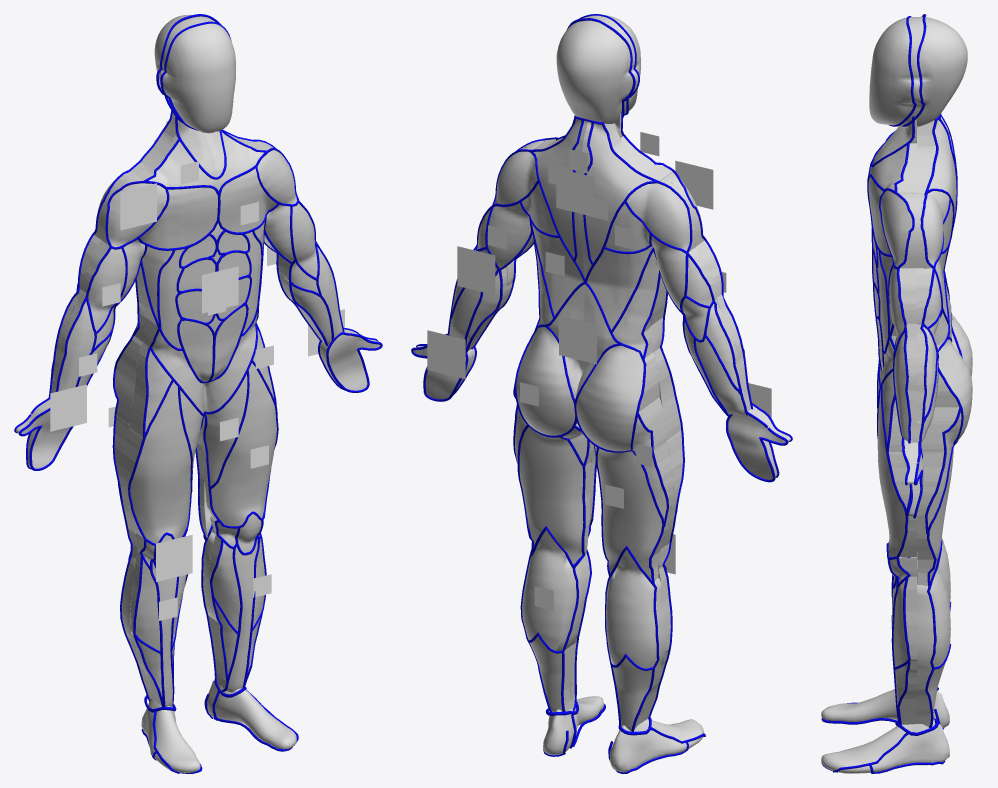
Rendered from male_06.glb.
3 renders of one model, left to right at view 1: azimuth 30°, elevation 25°; view 2: azimuth 150°, elevation 25°; view 3: azimuth 270°, elevation 25°, orthographic. The views are drawn at different scales.
Parts seen in each view (by area): view 1: quadriceps_r, head, quadriceps_l, pelvis_f, chest_r, trapecius_f, foot_l, foot_r, biceps_r, forarm1_r, chest_l, abducter_l (+37 smaller); view 2: head, hamstring_l, gluteus_r, hamstring_r, calves1_b_r, calves1_b_l, gluteus_l, trapecius_b_l, deltoid_b_r, foot_r, latisimusDorsi_b_r, abducter_r.001 (+36 smaller); view 3: head, foot_l, quadriceps_l, abducter_l.001, calves1_b_l, trapecius_b_r, deltoid_f_l, forarm1_l, gluteus_l, foot_r, deltoid_b_l, calves1_f_l (+33 smaller).
Boxes of the visible parts, bbox=[...] form: quadriceps_r: bbox=[123, 382, 190, 543]; head: bbox=[154, 14, 235, 133]; quadriceps_l: bbox=[205, 363, 276, 526]; pelvis_f: bbox=[143, 312, 257, 413]; chest_r: bbox=[140, 187, 217, 248]; trapecius_f: bbox=[134, 132, 264, 190]; foot_l: bbox=[207, 680, 296, 749]; foot_r: bbox=[141, 698, 200, 772]; biceps_r: bbox=[82, 240, 125, 331]; forarm1_r: bbox=[52, 290, 94, 392]; chest_l: bbox=[219, 168, 276, 232]; abducter_l: bbox=[199, 374, 247, 487]; head: bbox=[556, 14, 640, 123]; hamstring_l: bbox=[519, 427, 591, 564]; gluteus_r: bbox=[576, 345, 659, 451]; hamstring_r: bbox=[597, 448, 668, 580]; calves1_b_r: bbox=[606, 549, 666, 668]; calves1_b_l: bbox=[522, 530, 584, 651]; gluteus_l: bbox=[516, 327, 577, 435]; trapecius_b_l: bbox=[585, 123, 661, 262]; deltoid_b_r: bbox=[626, 178, 695, 251]; foot_r: bbox=[610, 719, 703, 772]; latisimusDorsi_b_r: bbox=[587, 245, 652, 329]; abducter_r.001: bbox=[633, 397, 673, 524]; head: bbox=[869, 16, 967, 128]; foot_l: bbox=[821, 719, 949, 773]; quadriceps_l: bbox=[877, 389, 916, 557]; abducter_l.001: bbox=[917, 407, 961, 533]; calves1_b_l: bbox=[917, 560, 950, 668]; trapecius_b_r: bbox=[917, 120, 956, 216]; deltoid_f_l: bbox=[880, 190, 916, 268]; forarm1_l: bbox=[894, 323, 916, 442]; gluteus_l: bbox=[935, 339, 972, 441]; foot_r: bbox=[821, 689, 949, 727]; deltoid_b_l: bbox=[917, 191, 949, 267]; calves1_f_l: bbox=[893, 576, 916, 666].
Size of what is drawn, in the model's own units: 0.9903 by 1.85 by 0.3763.
